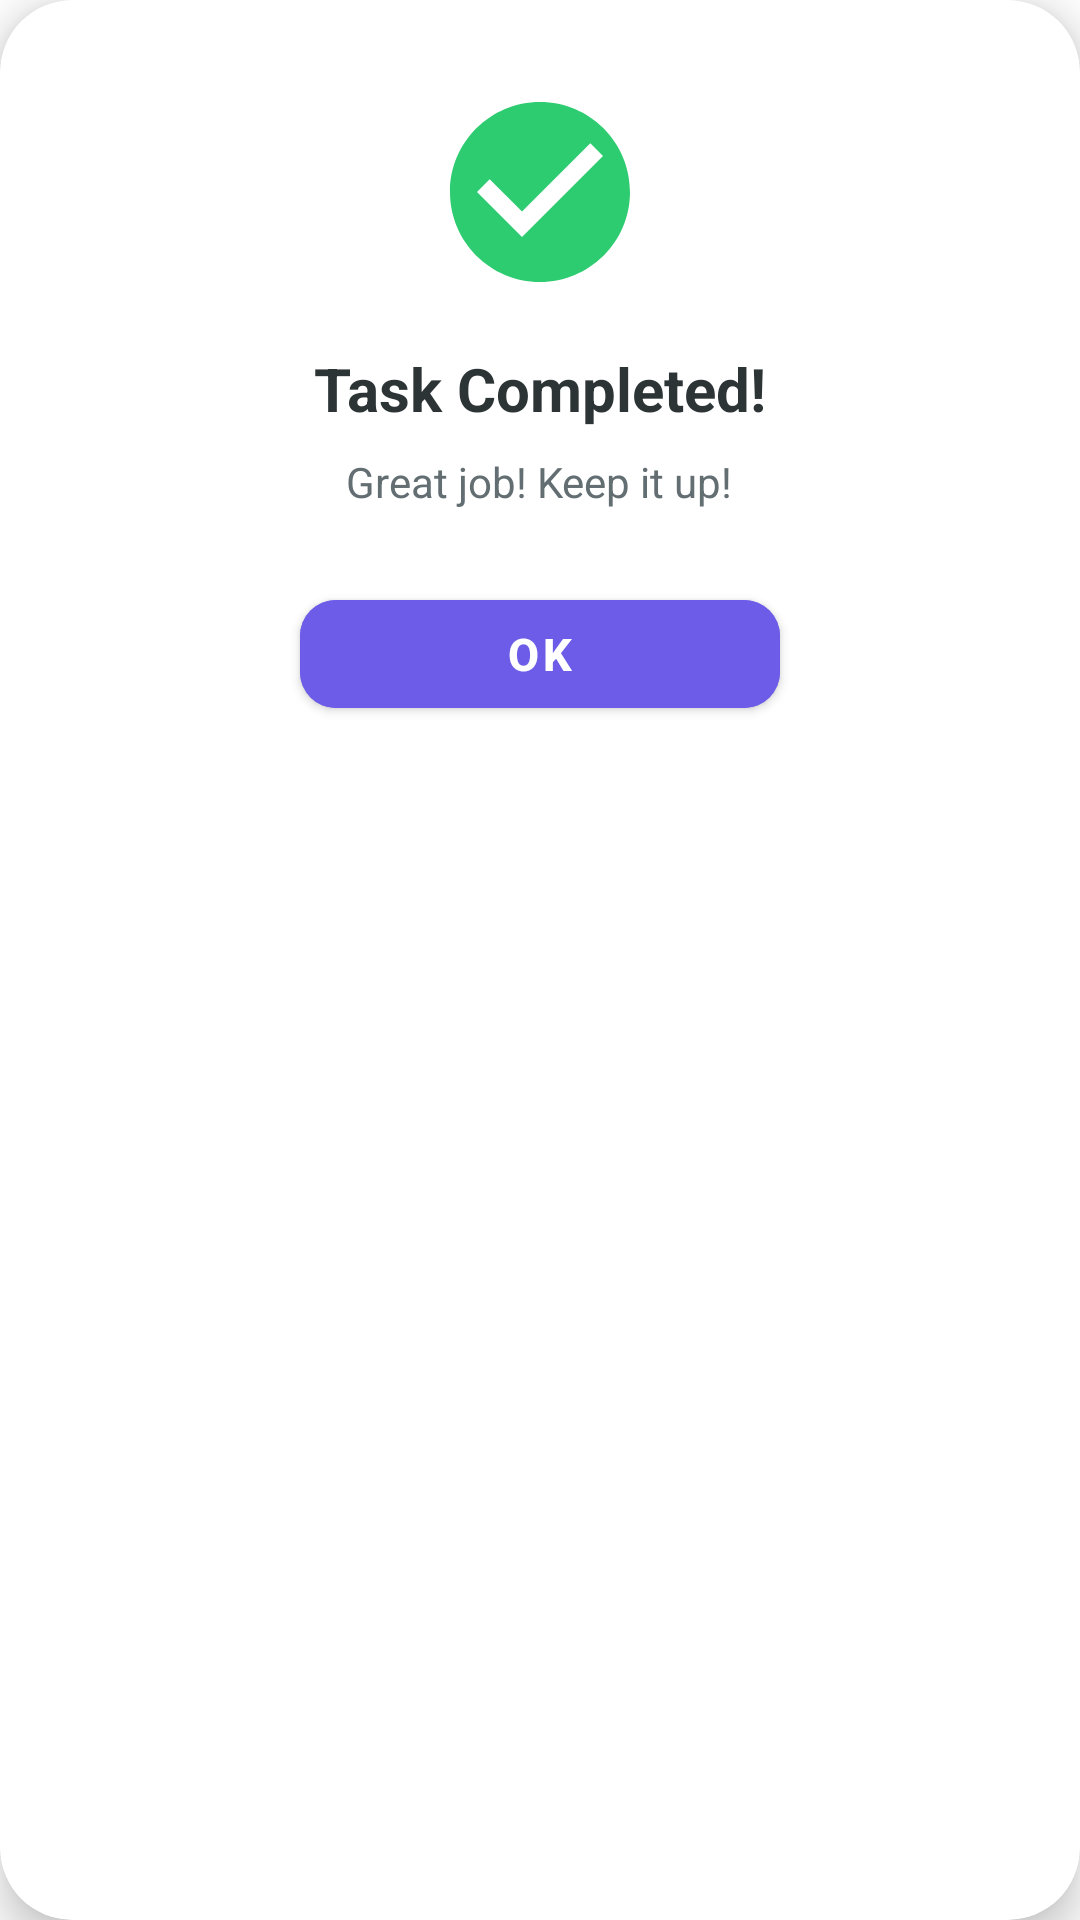

Where to tap for icons on this 1080w x 1920h app screen, as [x,y]:
Success: [540,192]
